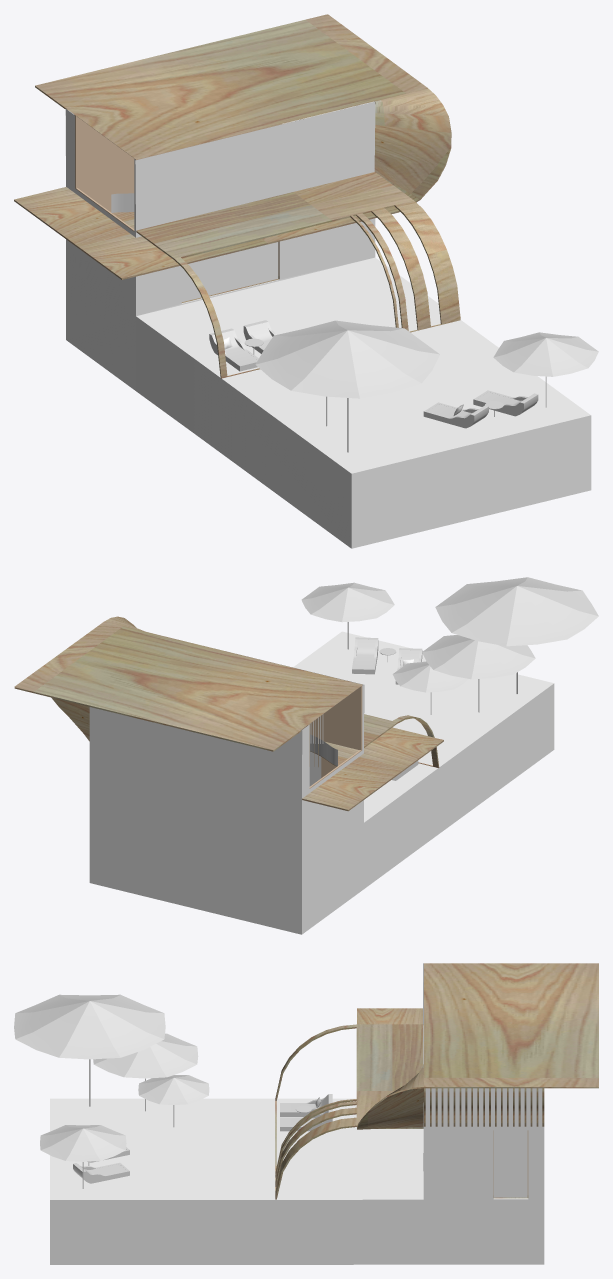
The model's file is House.fbx.
3 views of the same model, one above another, from view 1: azimuth 30°, elevation 25°; view 2: azimuth 150°, elevation 25°; view 3: azimuth 270°, elevation 25° (orthographic). The views are drawn at different scales.
Visible parts, largest first — view 1: Plane.011, Cube.014, Plane.006, Cube.011, Cube.012, Circle.002, Plane.001, Circle.003, Plane.008, Cube.019, Cube.015, Cube.021; view 2: Plane.011, Plane.006, Cube.014, Circle.002, Cube.012, Circle.005, Circle.003, Plane.001, Circle.004, Cube.011, Cube.021, Cube.018 (+1 smaller); view 3: Plane.011, Cube.014, Plane.006, Circle.002, Cube.011, Cube.012, Circle.005, Circle.003, Plane.007, Cube.018, Circle.004, Cube.021 (+2 smaller).
Part boxes in pixels (x1=…): Plane.011: x1=66, y1=257, x2=591, y2=548; Cube.014: x1=35, y1=14, x2=427, y2=159; Plane.006: x1=65, y1=101, x2=375, y2=316; Cube.011: x1=136, y1=172, x2=460, y2=378; Cube.012: x1=14, y1=86, x2=451, y2=279; Circle.002: x1=255, y1=320, x2=439, y2=452; Plane.001: x1=74, y1=114, x2=304, y2=302; Circle.003: x1=493, y1=332, x2=598, y2=407; Plane.008: x1=181, y1=242, x2=278, y2=301; Cube.019: x1=423, y1=402, x2=488, y2=428; Cube.015: x1=209, y1=328, x2=258, y2=371; Cube.021: x1=473, y1=390, x2=538, y2=416; Plane.011: x1=89, y1=631, x2=554, y2=934; Plane.006: x1=89, y1=656, x2=364, y2=868; Cube.014: x1=14, y1=621, x2=362, y2=750; Circle.002: x1=435, y1=577, x2=598, y2=693; Cube.012: x1=14, y1=616, x2=443, y2=811; Circle.005: x1=422, y1=635, x2=535, y2=712; Circle.003: x1=301, y1=582, x2=394, y2=649; Plane.001: x1=302, y1=685, x2=362, y2=788; Circle.004: x1=392, y1=661, x2=468, y2=714; Cube.011: x1=364, y1=714, x2=439, y2=767; Cube.021: x1=352, y1=637, x2=378, y2=674; Cube.018: x1=51, y1=697, x2=89, y2=741; Plane.011: x1=50, y1=1098, x2=544, y2=1264; Cube.014: x1=424, y1=963, x2=598, y2=1087; Plane.006: x1=423, y1=963, x2=544, y2=1199; Circle.002: x1=14, y1=994, x2=165, y2=1106; Cube.011: x1=275, y1=1024, x2=423, y2=1199; Cube.012: x1=357, y1=1008, x2=598, y2=1129; Circle.005: x1=93, y1=1033, x2=198, y2=1111; Circle.003: x1=40, y1=1125, x2=126, y2=1188; Plane.007: x1=494, y1=1130, x2=527, y2=1197; Cube.018: x1=424, y1=1088, x2=544, y2=1126; Circle.004: x1=138, y1=1075, x2=209, y2=1127; Cube.021: x1=73, y1=1162, x2=129, y2=1183.
Size of the model in its own units: 15892 by 10038 by 26573.
